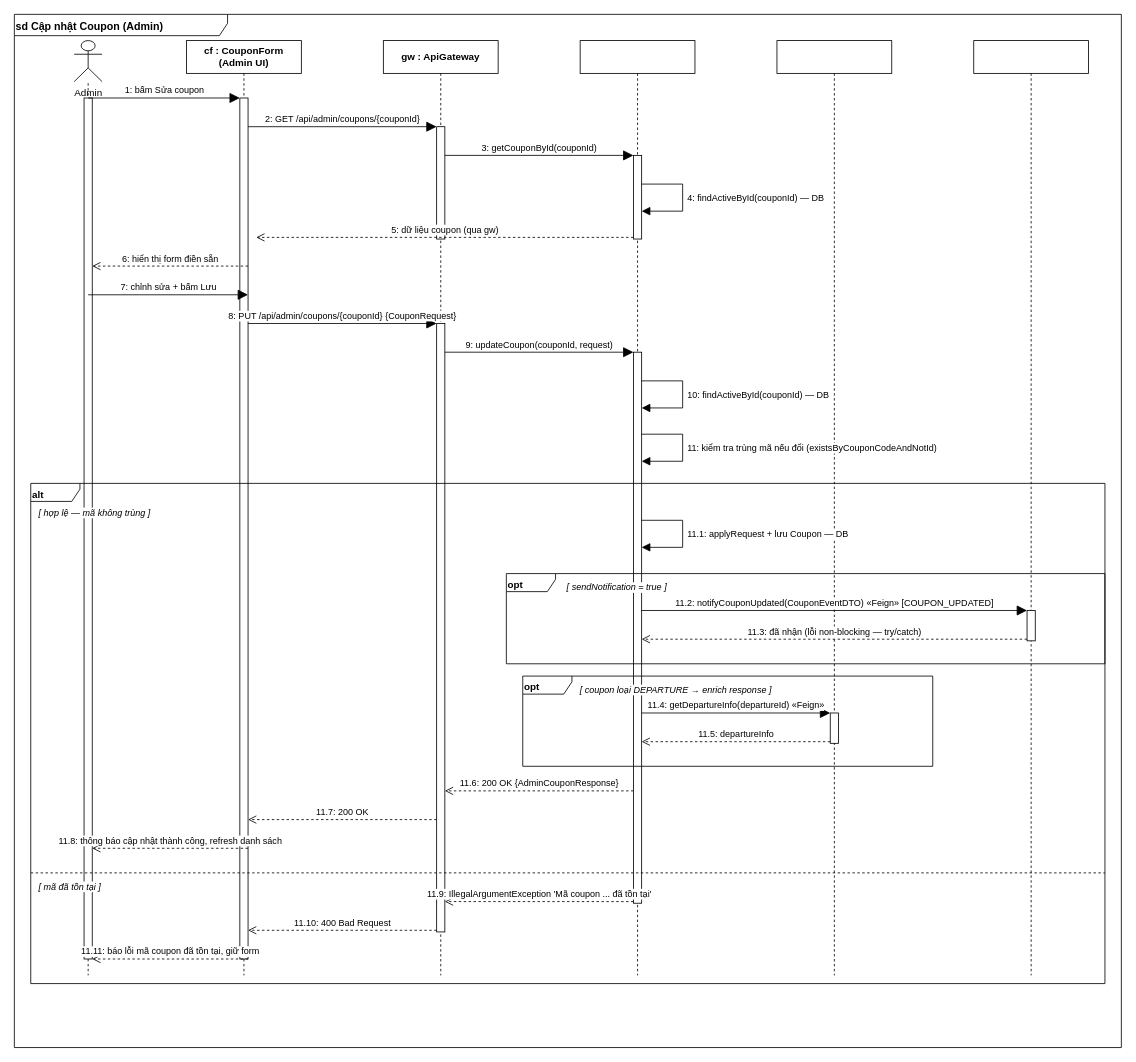
The diagram is 1136 pixels wide and 1062 high, and some of its shapes have lost their labels. The shapes that lost their labels are listed below. From the top down, each one's box as (x1, y1, x2, y2) in pixels, then its label:
(579, 40, 695, 975): bs : BookingService
(776, 40, 892, 975): tc : TourCatalogService
(973, 40, 1089, 975): notif : NotificationService
